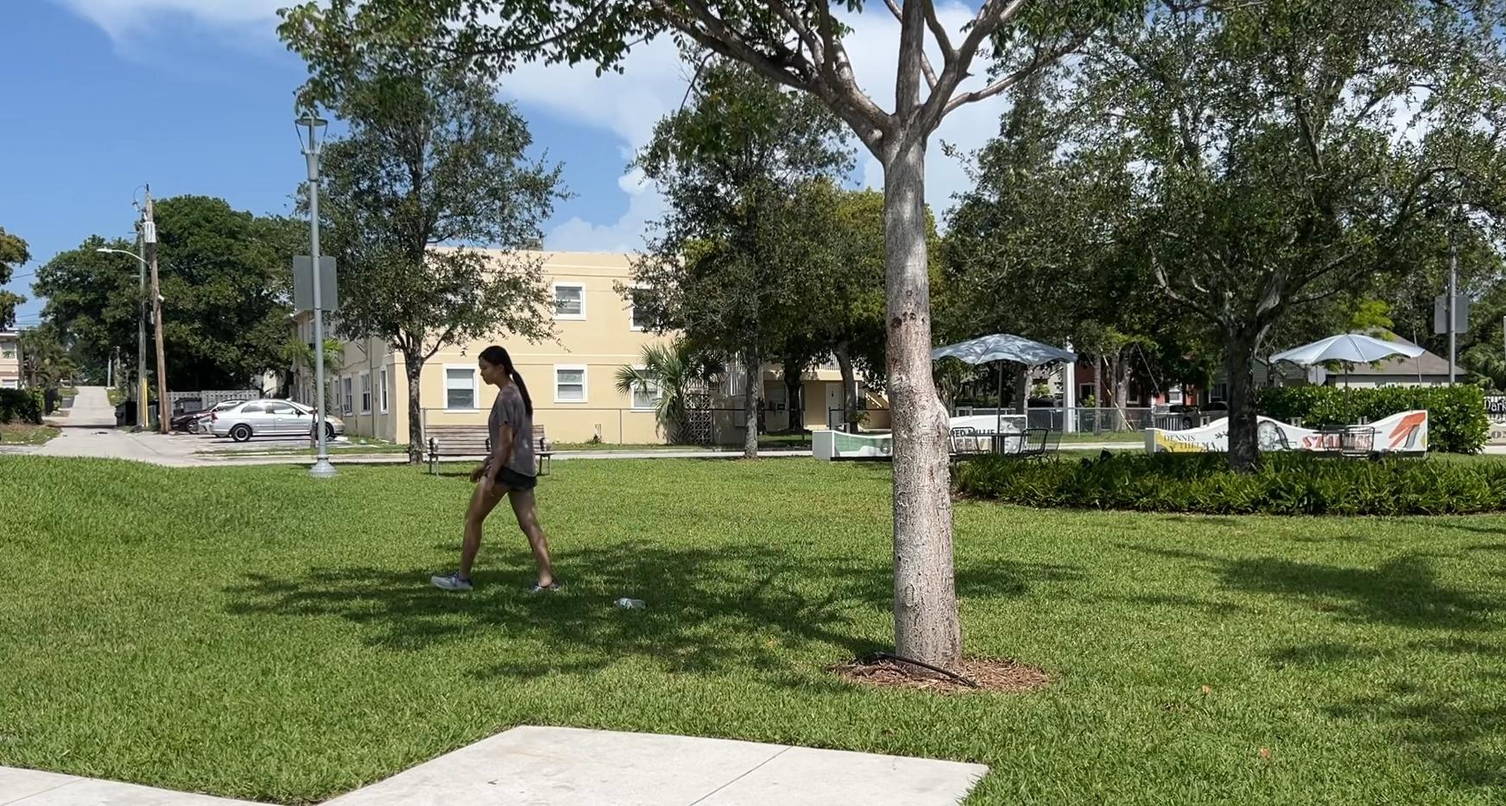Trash: (598, 580, 664, 625)
